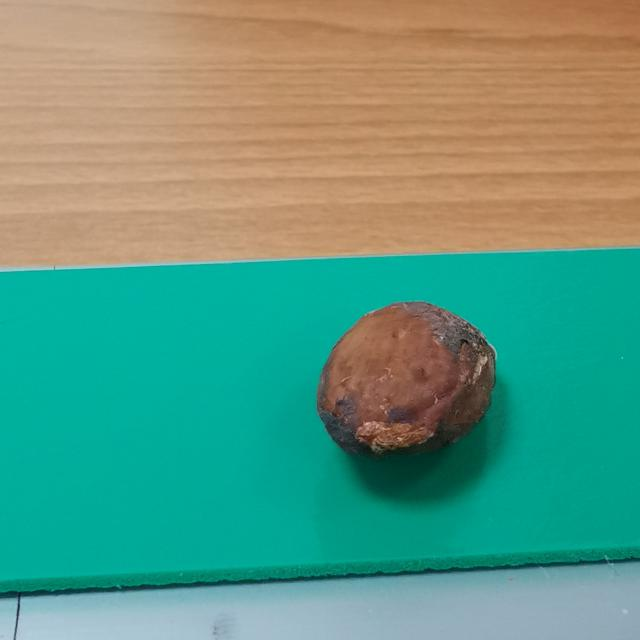Fine_cocoabeans: (221, 237, 599, 529)
